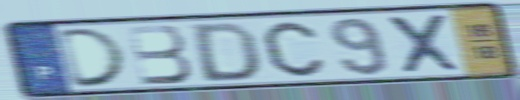9: (326, 15, 392, 78)
B: (124, 22, 196, 87)
C: (260, 19, 327, 79)
D: (56, 25, 132, 90), (192, 20, 262, 84)
X: (383, 12, 465, 76)
